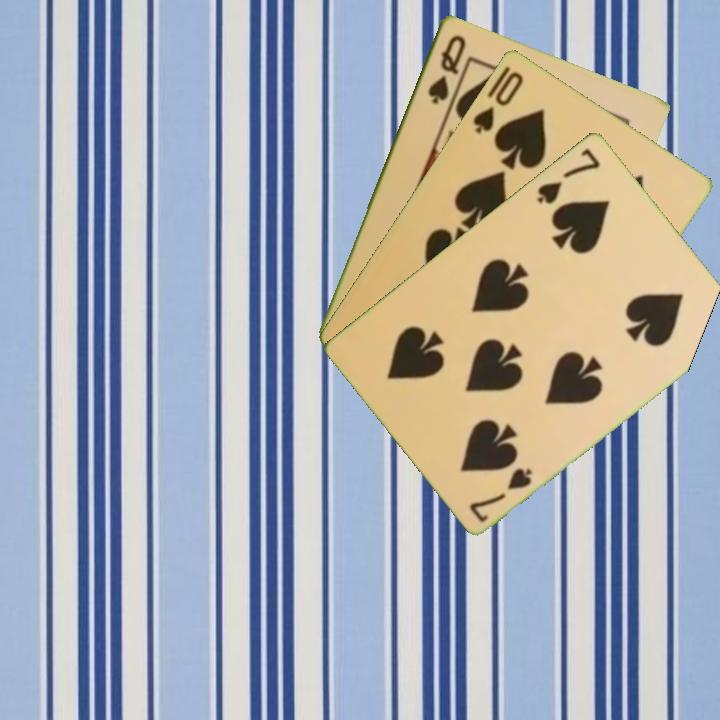10s: (469, 67, 526, 137)
7s: (533, 144, 603, 207), (465, 463, 536, 525)
Qs: (424, 30, 469, 107)
